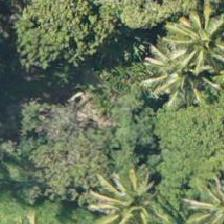coconut_tree: (138, 25, 223, 115), (83, 164, 173, 223), (172, 0, 223, 78)
